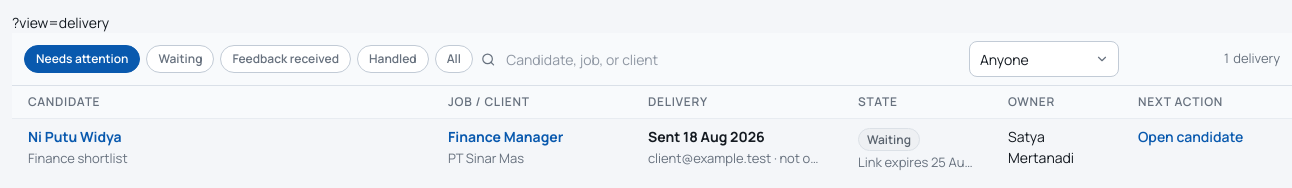
Scenario: DeliveryWorkbench › filters › searches on the server, never in React
This screenshot has width=1292, height=188.
Check: the text "Ni Putu Widya" is shown, box [28, 127, 122, 146]
In the field named "Search deliveries": (731, 59) [501, 41, 961, 77], type "sinar"
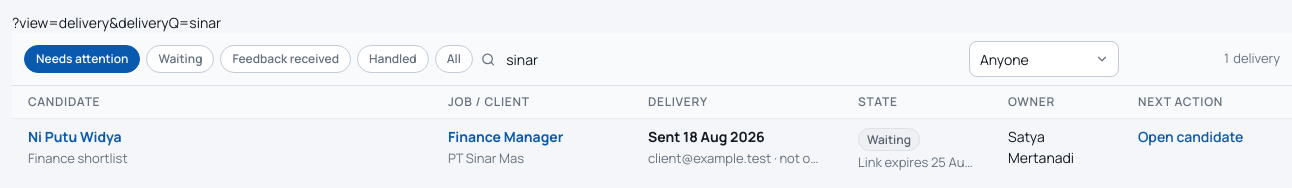
Check: the text with test id "search" shows "deliveryQ=sinar", box [12, 13, 221, 32]
